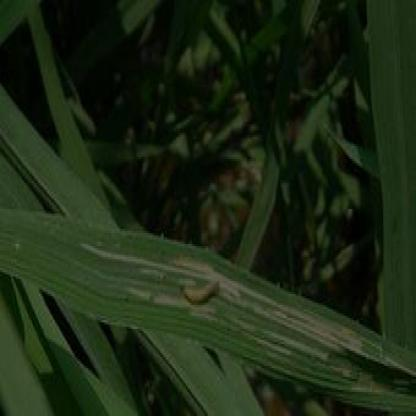leaf-folder: (180, 264, 226, 318)
